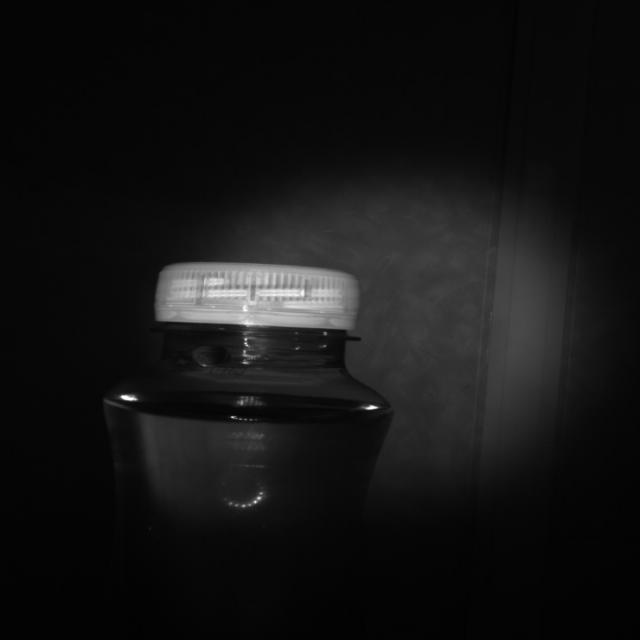Good: (156, 264, 364, 332)
